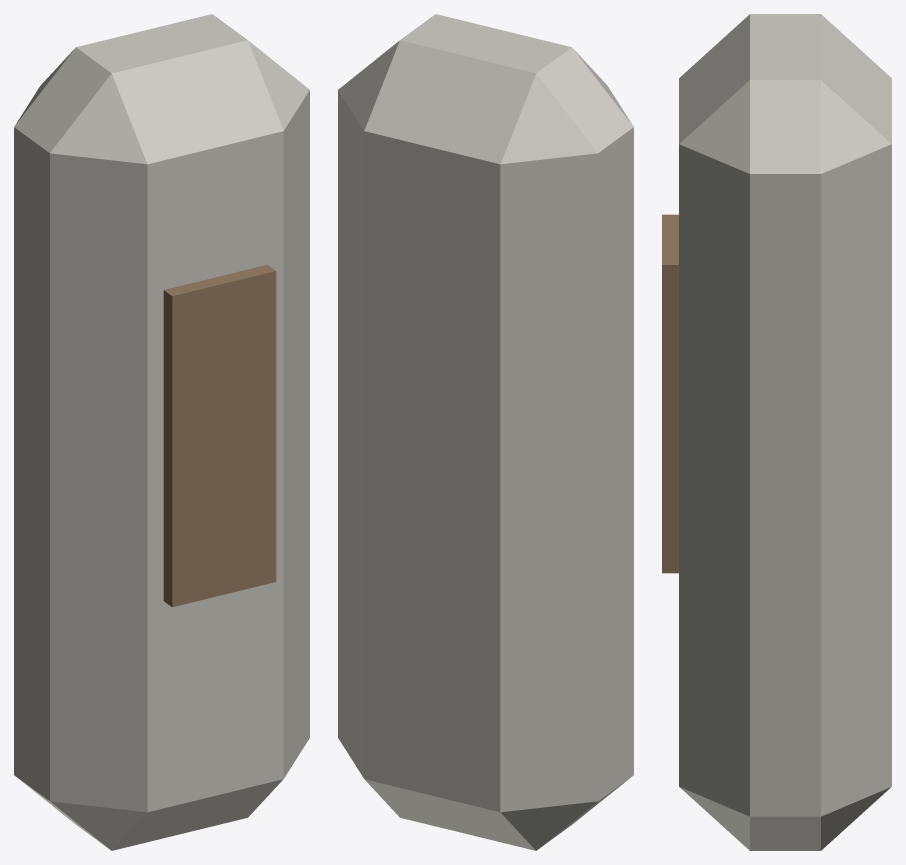
Rendered from feudal-japan-castle-town-milestone-3e382d86__26531.glb.
The picture shows the model from 3 angles, left to right: view 1: azimuth 30°, elevation 25°; view 2: azimuth 150°, elevation 25°; view 3: azimuth 270°, elevation 25°; orthographic projection.
Visible parts, largest first — view 1: milestone; view 2: milestone; view 3: milestone.
Boxes of the visible parts, x1,y1,x2,y2 form: milestone: (14, 14, 309, 850); milestone: (338, 14, 633, 850); milestone: (662, 14, 891, 850).
Size of the model in its own units: 0.35 by 1 by 0.27.
